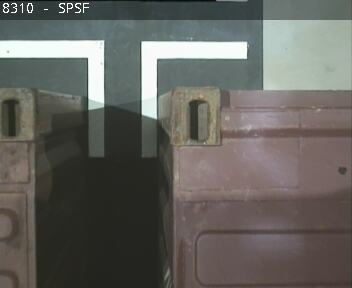groundmarker_1: (1, 40, 248, 156)
